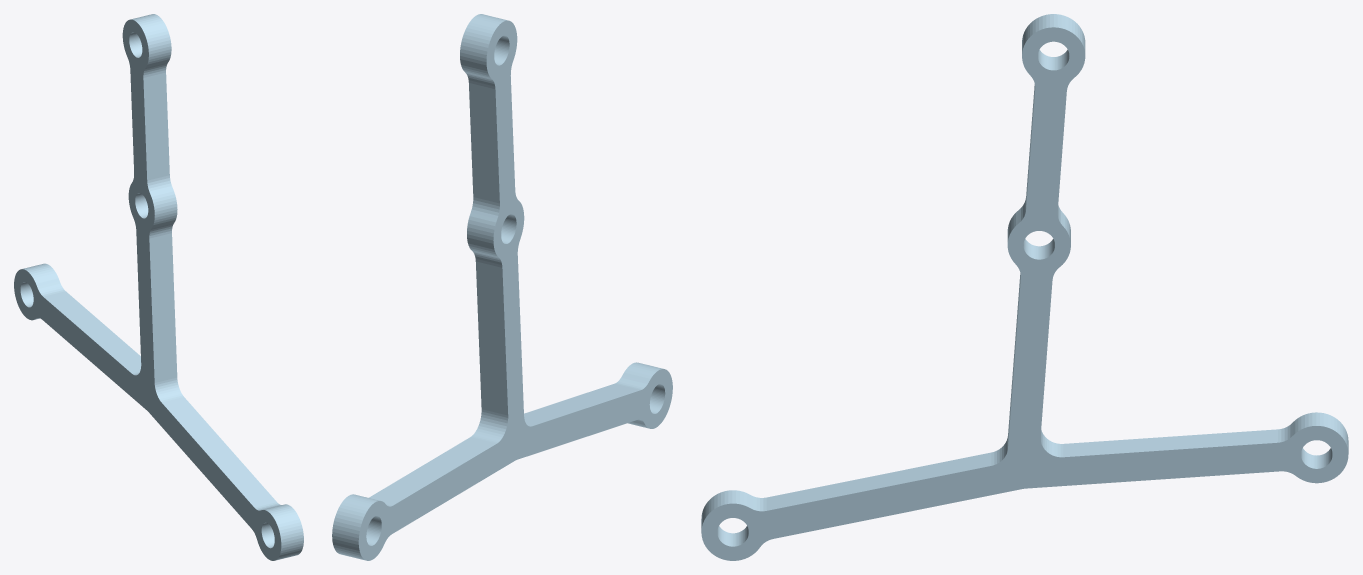
File: Foot.dae
3 views of the same model, side by side, from view 1: azimuth 30°, elevation 25°; view 2: azimuth 150°, elevation 25°; view 3: azimuth 270°, elevation 25° (orthographic). The views are drawn at different scales.
Visible parts, largest first — view 1: 5c56960261567d164a537eb5; view 2: 5c56960261567d164a537eb5; view 3: 5c56960261567d164a537eb5.
Part boxes in pixels (bbox=[...]): 5c56960261567d164a537eb5: bbox=[14, 14, 303, 560]; 5c56960261567d164a537eb5: bbox=[332, 14, 672, 560]; 5c56960261567d164a537eb5: bbox=[701, 14, 1348, 560].
Size of the model in its own units: 0.00476 by 0.0973 by 0.0885.
